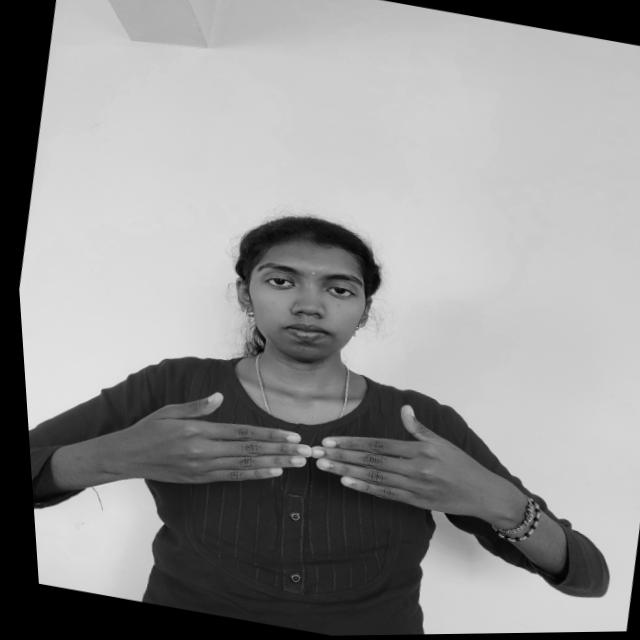Night: (83, 342, 522, 561)
